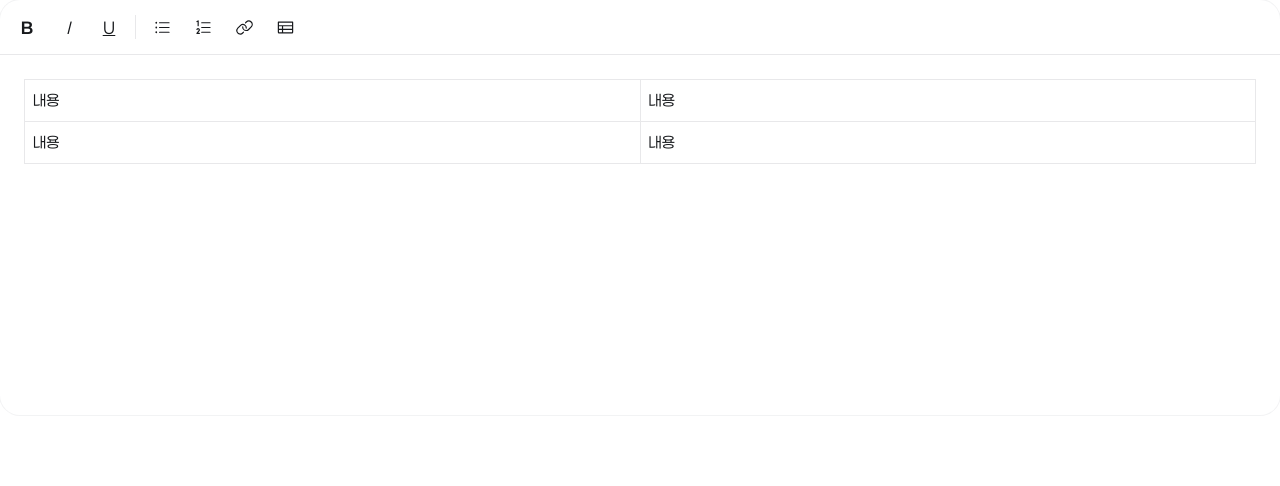
RichEditor table controls › Given a table, when a cell is selected, then structural controls appear
Click the 1st text "내용" at point(332, 100), box [24,80,640,121]
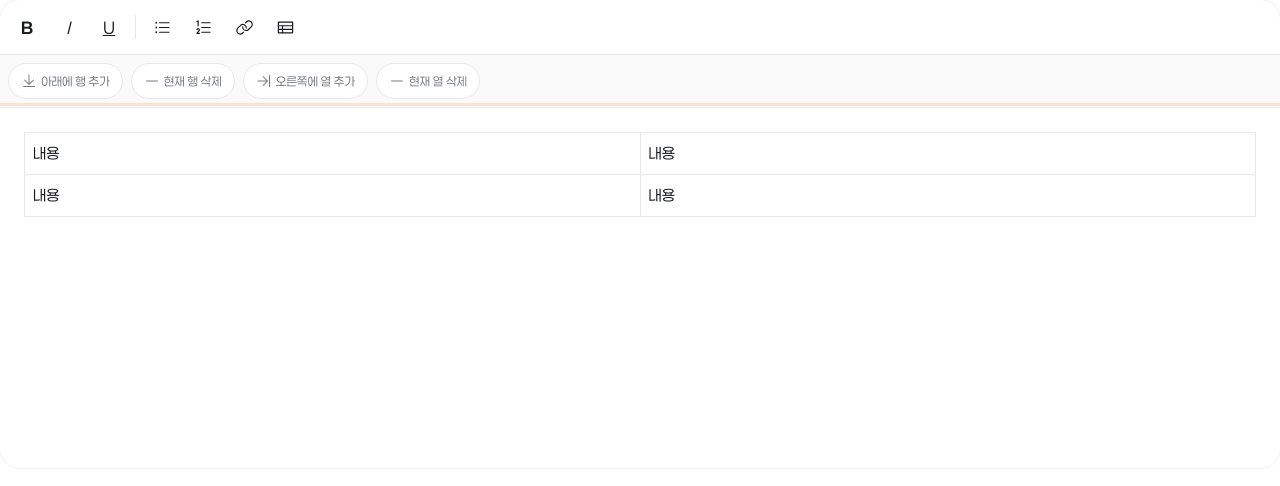
Expected: the button "아래에 행 추가" is shown, [8,63,123,99]
Expected: the button "현재 행 삭제" is shown, [131,63,235,99]
Expected: the button "오른쪽에 열 추가" is shown, [243,63,368,99]
